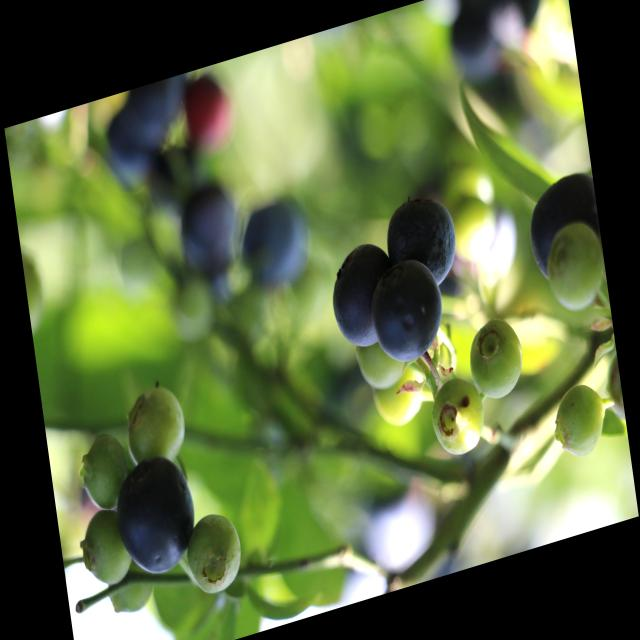blueberry: (112, 450, 202, 586), (366, 250, 449, 370), (323, 240, 400, 356), (382, 191, 462, 299), (521, 168, 599, 278)
blueberry-unripe: (463, 306, 530, 408), (538, 220, 605, 320), (183, 506, 248, 607), (124, 379, 192, 475), (426, 370, 490, 466), (76, 503, 137, 596), (548, 376, 608, 460), (76, 430, 132, 518), (368, 364, 430, 437), (354, 330, 407, 403), (104, 554, 156, 621)
